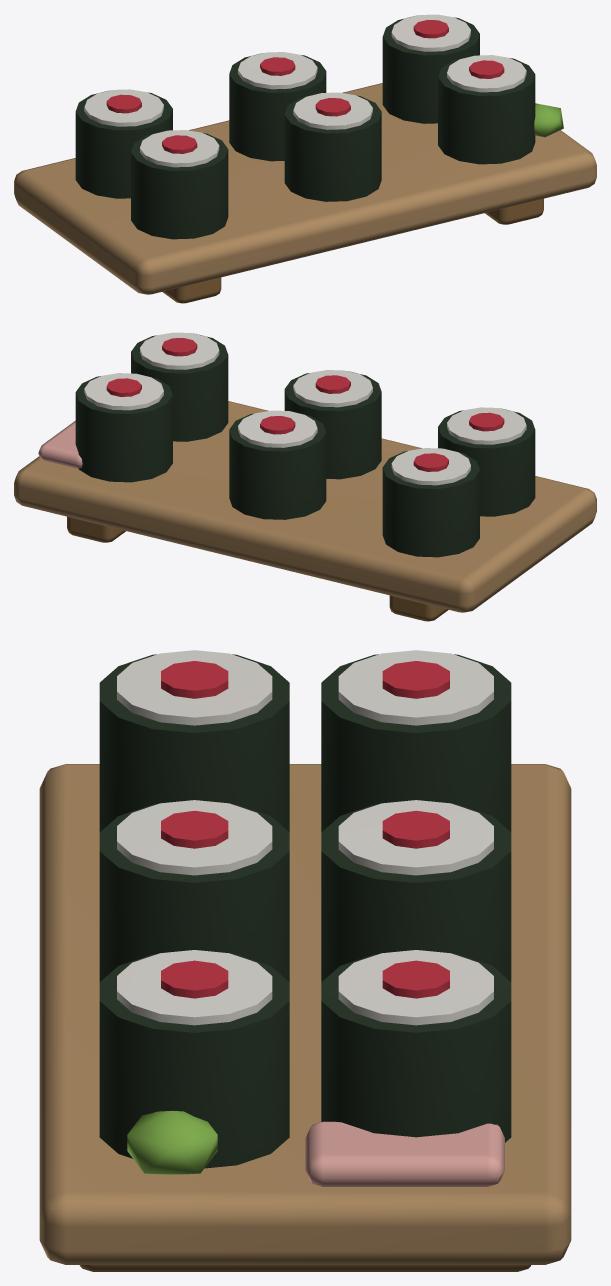
File: item_dish_tuna_roll.glb
The picture shows the model from 3 angles, top to bottom: view 1: azimuth 30°, elevation 25°; view 2: azimuth 150°, elevation 25°; view 3: azimuth 270°, elevation 25°; orthographic projection. The views are drawn at different scales.
Parts seen in each view (by area): view 1: item_dish_tuna_roll_main; view 2: item_dish_tuna_roll_main; view 3: item_dish_tuna_roll_main.
Part boxes in pixels (x1,y1,x2,y2): item_dish_tuna_roll_main: (14,14,596,303); item_dish_tuna_roll_main: (14,332,596,621); item_dish_tuna_roll_main: (39,650,571,1271).
Bounding box in the file's own units: 0.24 × 0.068 × 0.12.
